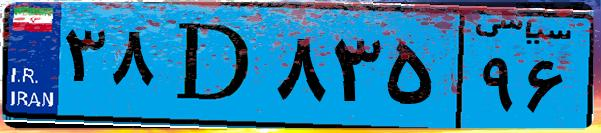3: (330, 28, 385, 110), (57, 26, 110, 100)
5: (385, 28, 445, 110)
6: (525, 38, 570, 115)
8: (270, 28, 330, 110), (110, 28, 158, 98)
9: (475, 38, 525, 113)
D: (158, 12, 270, 120)
